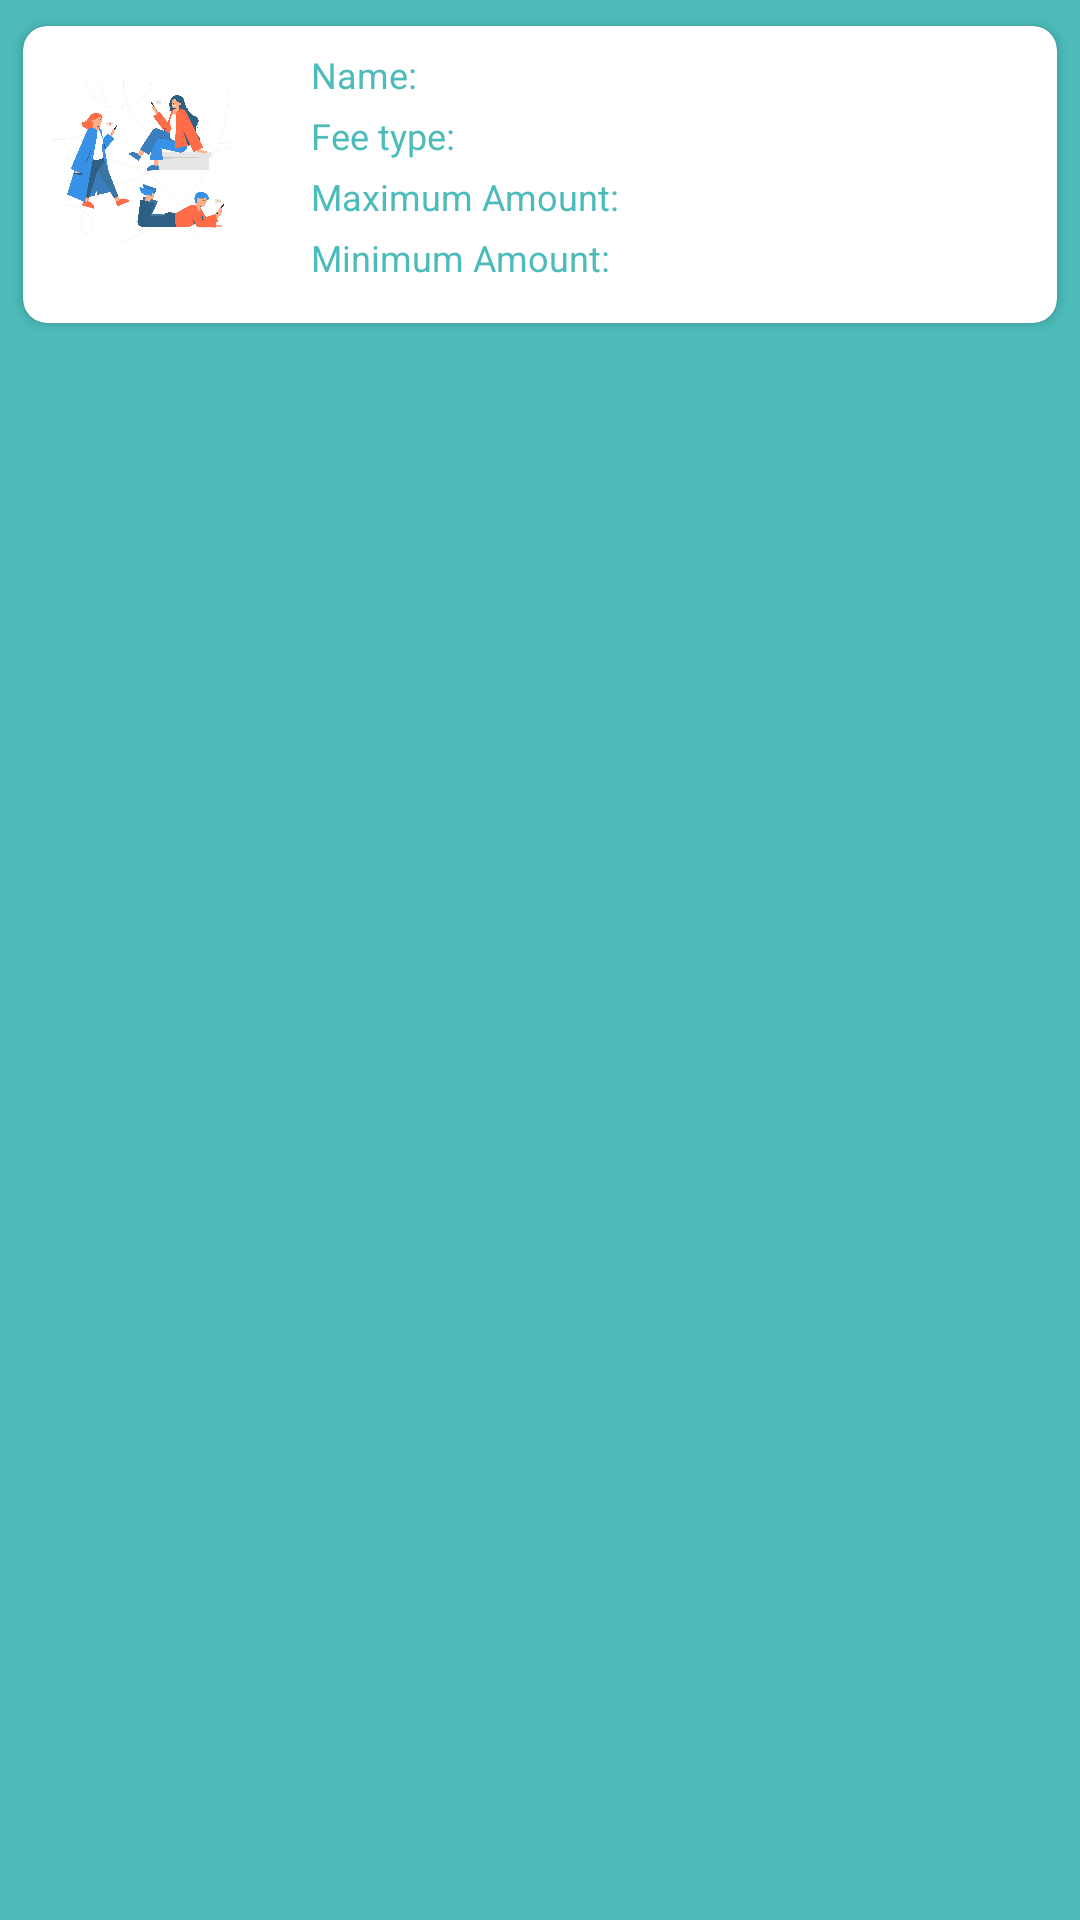

Icons on this 1080px x 1920px Android screen, each with the point to tap as point (x, y):
airtime: point (142, 161)
